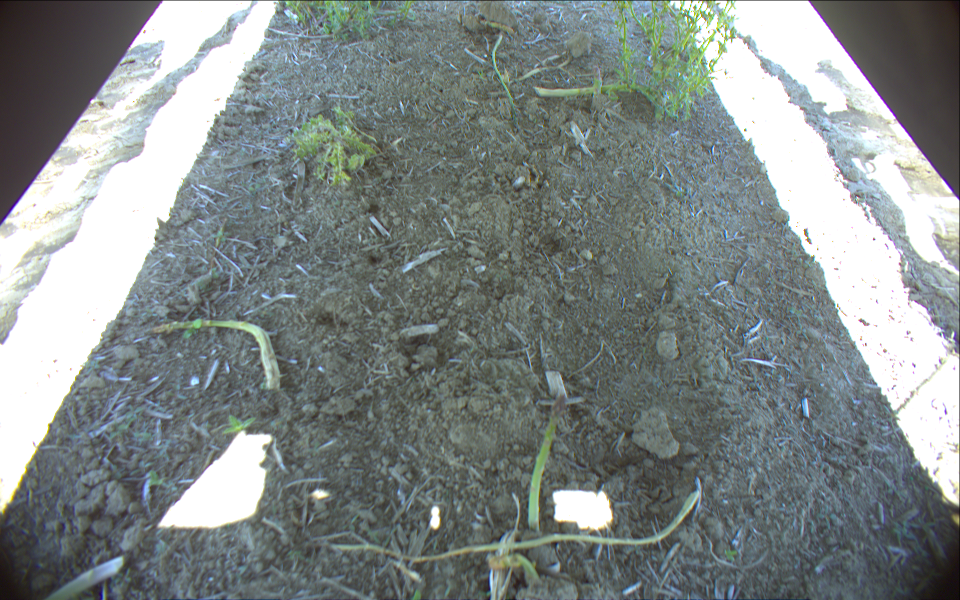aspa: (524, 390, 567, 538), (583, 64, 603, 105)
